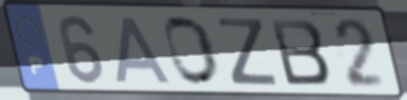2: (331, 16, 389, 90)
6: (55, 12, 107, 86)
A: (114, 15, 176, 86)
B: (267, 17, 333, 88)
O: (162, 14, 223, 88)
Z: (215, 15, 280, 88)
